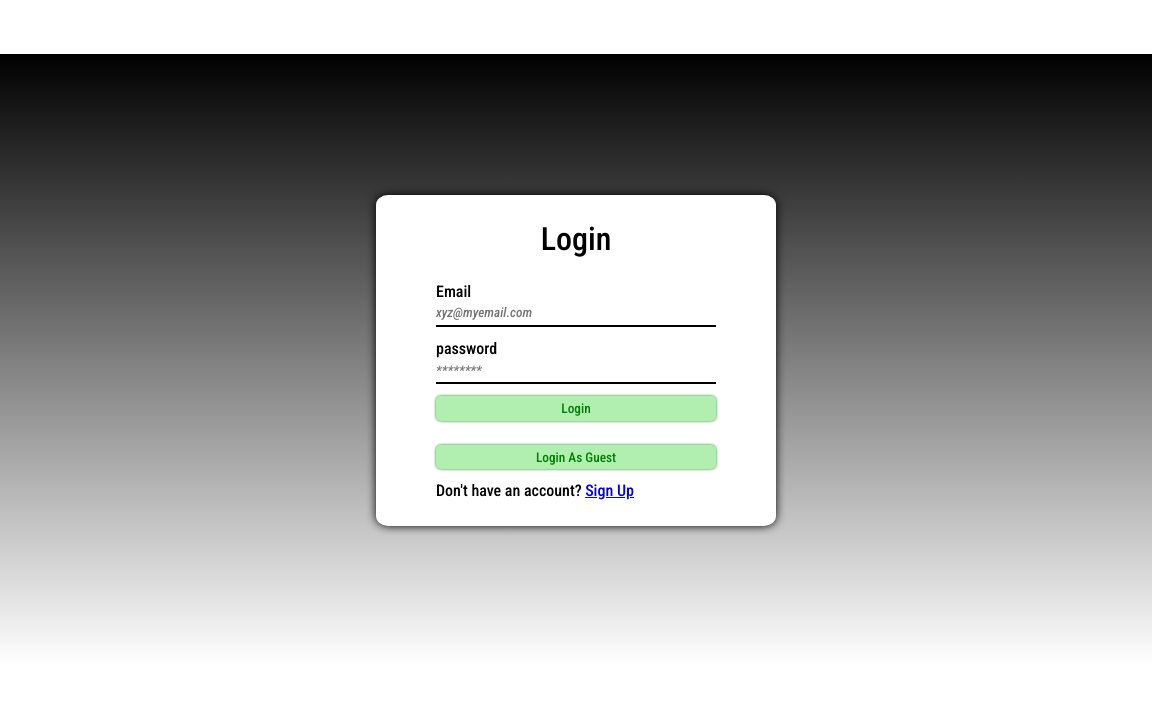
Test: Sign up form › Guest User Login
Click the button with aria-label "guestLoginFormSubmit".
click(576, 457)  # box [436,445,716,469]
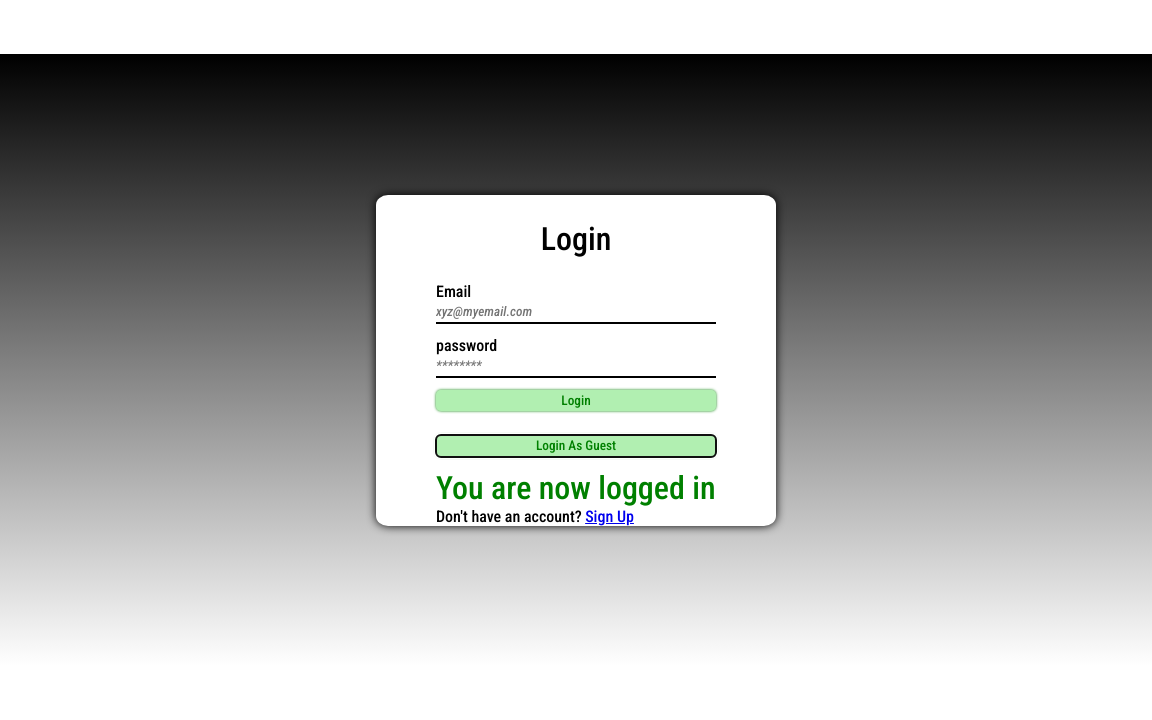
Result: the text "You are now logged in" is shown at [436,468,716,506]
